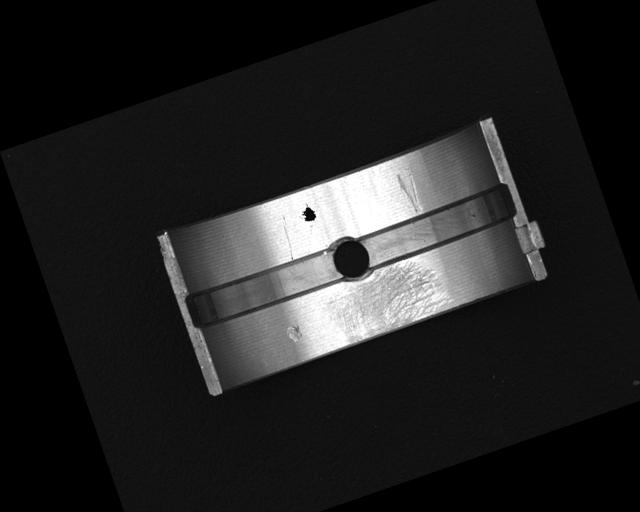blot: (297, 200, 319, 224)
bruise: (285, 324, 303, 344)
gap: (359, 182, 520, 270), (183, 244, 344, 331)
hole: (324, 228, 376, 286)
nick: (393, 167, 426, 216), (277, 216, 299, 260)
scratch: (318, 251, 455, 348)
